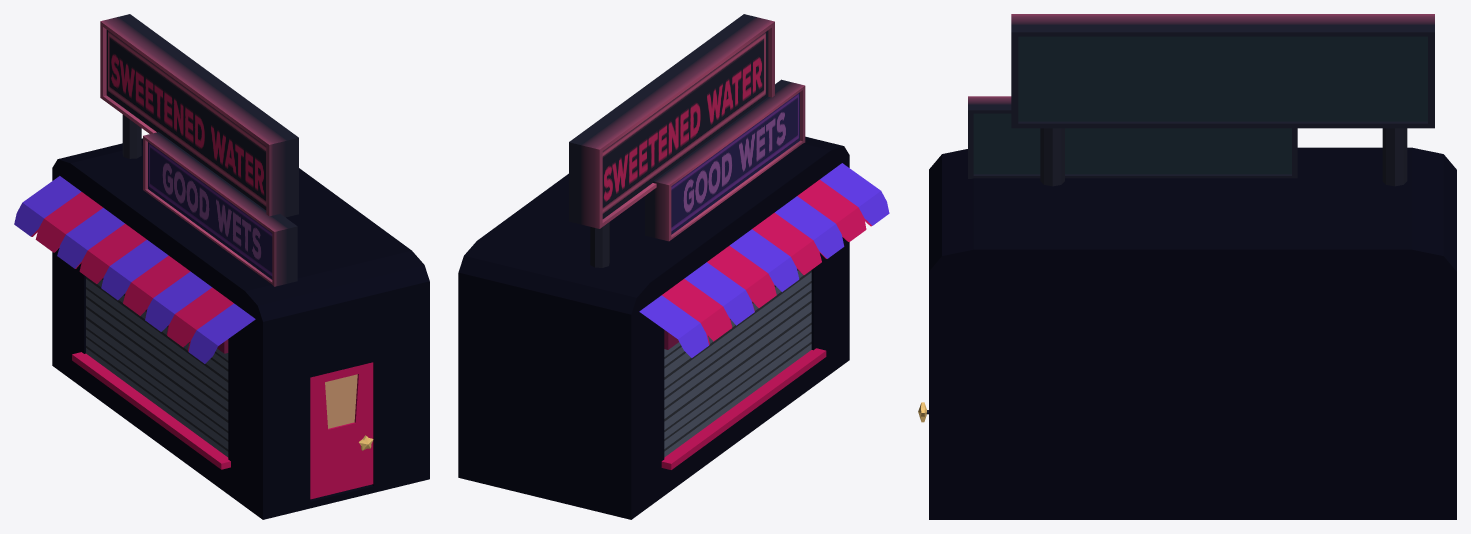
File: Building_StreetCart03.fbx
The picture shows the model from 3 angles, left to right: view 1: azimuth 30°, elevation 25°; view 2: azimuth 150°, elevation 25°; view 3: azimuth 270°, elevation 25°; orthographic projection. The views are drawn at different scales.
Visible parts, largest first — view 1: Cube.716, Cube.720, Cube.714, Cube.717; view 2: Cube.716, Cube.720, Cube.714; view 3: Cube.716, Cube.720.
Boxes of the visible parts, <box> form: Cube.716: <box>14,138,429,519</box>; Cube.720: <box>100,14,298,286</box>; Cube.714: <box>86,276,228,457</box>; Cube.717: <box>310,362,373,499</box>; Cube.716: <box>458,136,889,519</box>; Cube.720: <box>569,14,805,267</box>; Cube.714: <box>664,269,811,457</box>; Cube.716: <box>929,147,1456,519</box>; Cube.720: <box>968,14,1434,186</box>.
Size of the model in its own units: 218 by 330 by 377.
